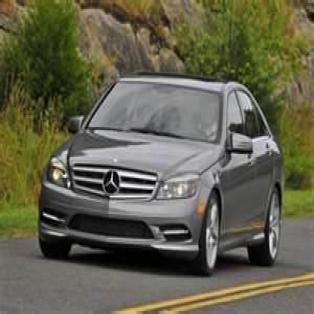Auto: (38, 73, 284, 280)
